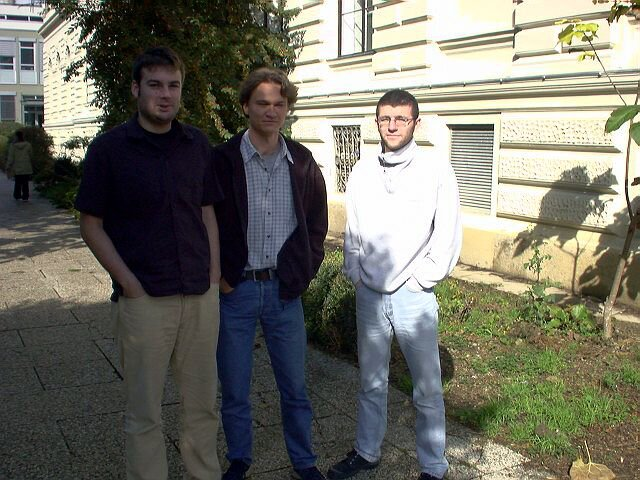person: (81, 48, 227, 471), (344, 80, 470, 478), (215, 61, 330, 480)
